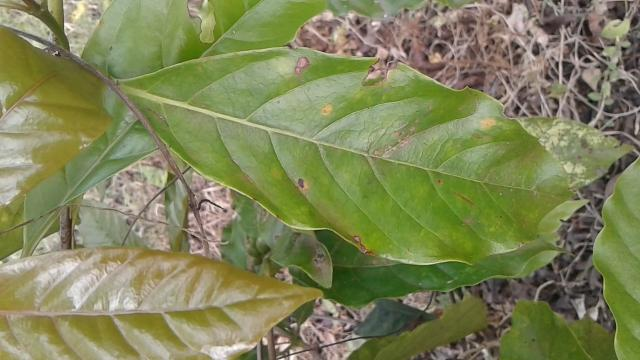rust_level_1: (119, 46, 574, 264)
